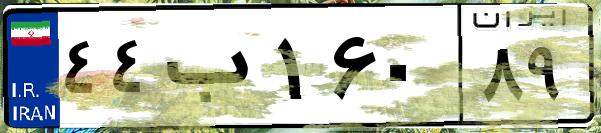0: (385, 28, 445, 110)
1: (270, 28, 330, 110)
4: (57, 26, 110, 100), (110, 28, 158, 98)
6: (330, 28, 385, 110)
8: (475, 38, 525, 113)
9: (525, 38, 570, 115)
ب: (158, 20, 270, 120)
